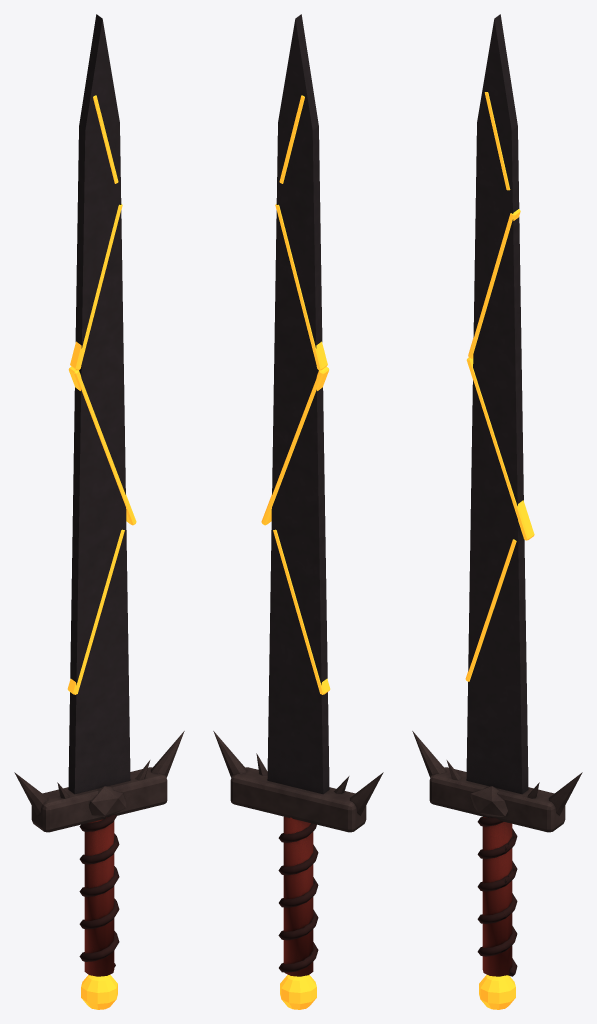
Rendered from 06_volcano_sword.fbx.
3 views of the same model, side by side, from view 1: azimuth 30°, elevation 25°; view 2: azimuth 150°, elevation 25°; view 3: azimuth 330°, elevation 25° (orthographic).
Visible parts, largest first — view 1: Weapon; view 2: Weapon; view 3: Weapon.
Part boxes in pixels (left/top/right/bottom): Weapon: left=14, top=14, right=184, bottom=1009; Weapon: left=213, top=14, right=383, bottom=1009; Weapon: left=412, top=14, right=582, bottom=1009.
Bounding box in the file's own units: 22.68 × 126 × 4.98.
Materials: 2 (1 with a texture image).
